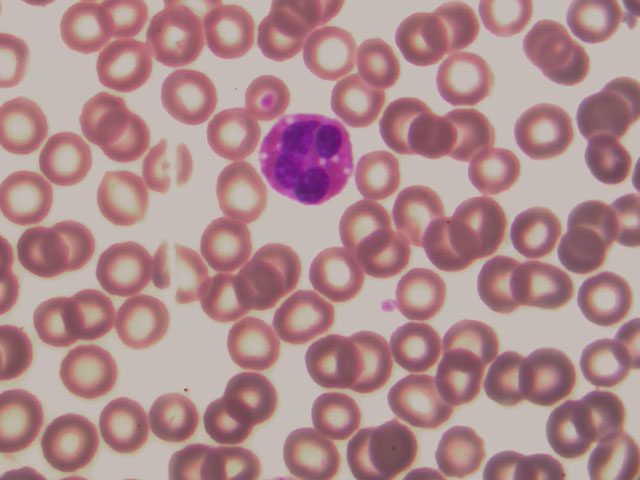Platelets: (378, 296, 396, 315)
RBC: (96, 37, 152, 95), (71, 87, 127, 145), (98, 109, 154, 167), (38, 127, 94, 185), (2, 168, 58, 226), (9, 224, 65, 282), (52, 219, 108, 277), (96, 238, 152, 296), (118, 296, 174, 354), (68, 290, 124, 348), (25, 296, 81, 354), (60, 340, 116, 398), (43, 408, 99, 466), (95, 402, 151, 460), (144, 391, 200, 449), (199, 394, 255, 452), (223, 373, 279, 431), (223, 321, 279, 379), (199, 275, 255, 333), (154, 241, 210, 299), (198, 216, 254, 274), (213, 164, 269, 222), (212, 108, 268, 166), (236, 67, 292, 125), (168, 68, 224, 126), (145, 138, 201, 196), (262, 237, 318, 295), (231, 263, 287, 321), (276, 292, 332, 350), (297, 329, 353, 387), (334, 331, 390, 389), (310, 382, 366, 440), (284, 422, 340, 480), (367, 418, 423, 476), (329, 422, 385, 480), (391, 371, 447, 429), (388, 317, 444, 375), (398, 257, 454, 315), (361, 234, 417, 292), (342, 200, 398, 258), (311, 241, 367, 299), (394, 183, 450, 241), (352, 149, 408, 207), (328, 71, 384, 129), (353, 33, 409, 91), (308, 27, 364, 85), (263, 11, 319, 69), (205, 3, 261, 61), (151, 9, 207, 67), (396, 15, 452, 73), (431, 3, 487, 61), (440, 49, 496, 107), (449, 101, 505, 159), (406, 111, 462, 169), (380, 96, 436, 154), (467, 140, 523, 198), (459, 195, 515, 253), (428, 219, 484, 277), (473, 255, 529, 313), (523, 268, 579, 326), (511, 211, 567, 269), (551, 229, 607, 287), (572, 192, 628, 250), (578, 129, 634, 187), (573, 83, 629, 141), (519, 102, 575, 160), (544, 46, 600, 104), (524, 19, 580, 77), (573, 270, 629, 328), (572, 337, 628, 395), (525, 348, 581, 406), (478, 346, 534, 404), (447, 309, 503, 367), (437, 345, 493, 403), (394, 316, 450, 374), (543, 398, 599, 456), (582, 385, 638, 443), (432, 422, 488, 480), (58, 1, 114, 58), (1, 93, 56, 151), (1, 385, 56, 443), (569, 1, 620, 45)
WBC: (263, 112, 360, 207)
